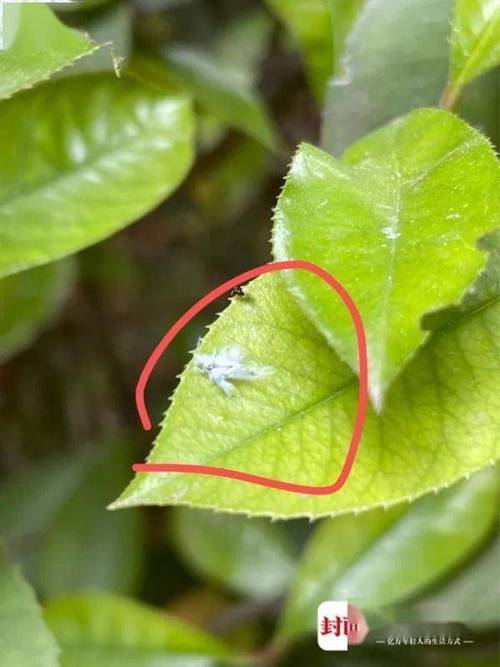Delphacidae: (192, 342, 277, 396)
